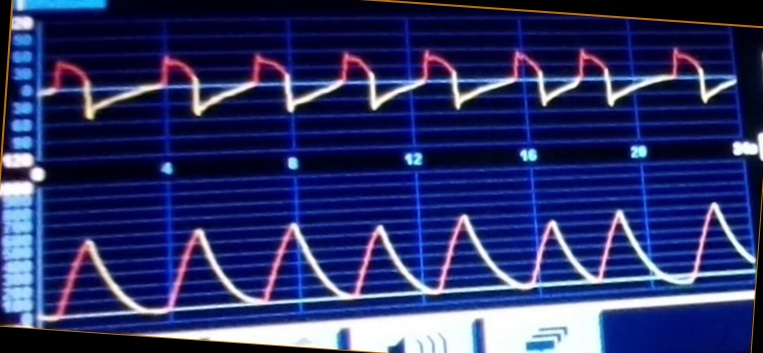Normal Flow: (43, 45, 737, 133)
Normal Volume: (46, 200, 755, 315)
